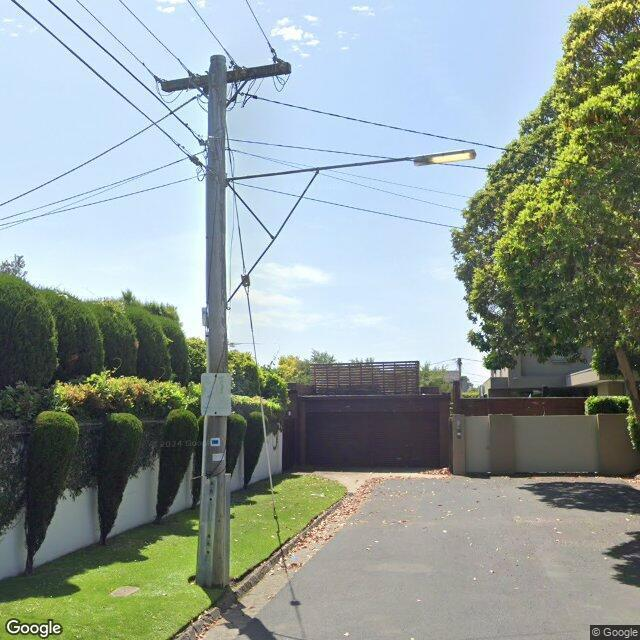crossarm: (152, 49, 292, 94)
streetlight: (225, 147, 477, 184)
timber-pole: (195, 55, 230, 586)
